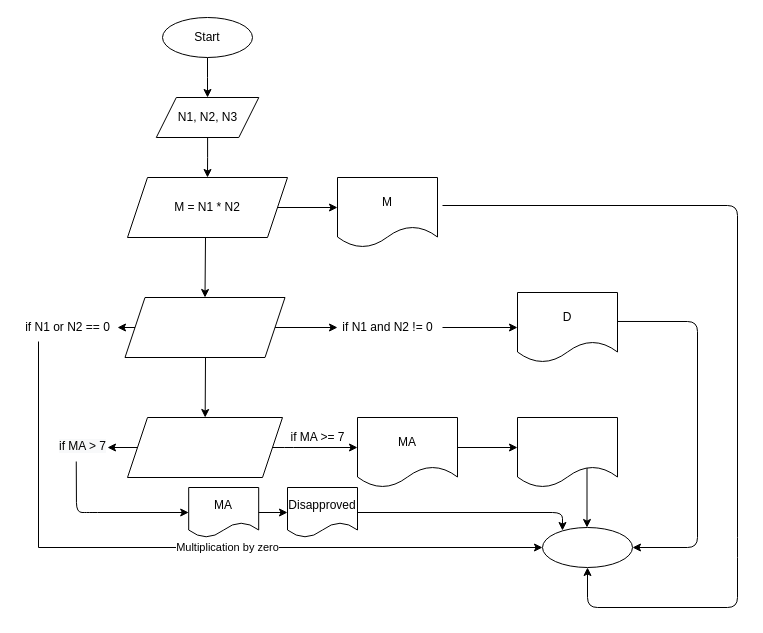
Some shapes in this 763 by 633 pixel diagram are drawn without their labels. The shapes that lost their labels are listed below. From the top down, each one's box as (x1, y1, x2, y2) in pixels, then its label:
(124, 296, 285, 358): D = N1 / N2
(126, 416, 282, 478): MA = (N1 + N2 + N3) / 3
(516, 416, 618, 488): Approved
(542, 526, 632, 568): End
